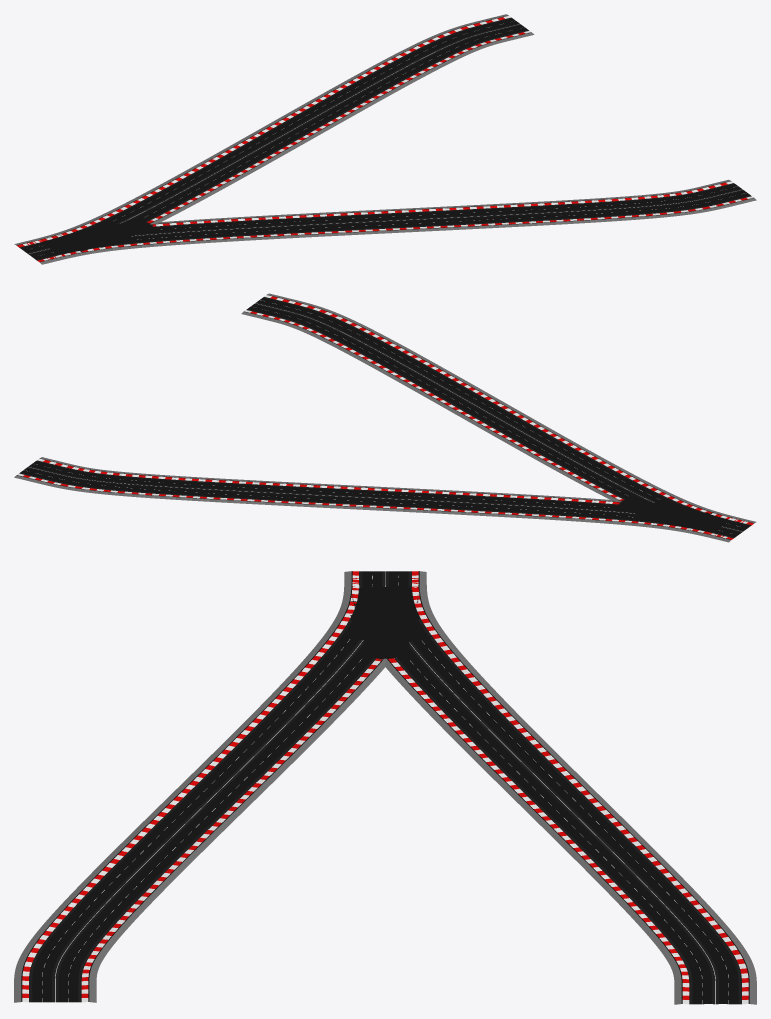
The model's file is S0.1c23-2lines.glb.
3 views of the same model, one above another, from view 1: azimuth 30°, elevation 25°; view 2: azimuth 150°, elevation 25°; view 3: azimuth 270°, elevation 25° (orthographic). The views are drawn at different scales.
Parts seen in each view (by area): view 1: Grid.005; view 2: Grid.005; view 3: Grid.005.
Boxes of the visible parts, left/top/right/bottom form: Grid.005: left=14, top=14, right=756, bottom=264; Grid.005: left=14, top=293, right=756, bottom=542; Grid.005: left=14, top=571, right=756, bottom=1004.
Bounding box in the file's own units: 310 × 0.31 × 225.
